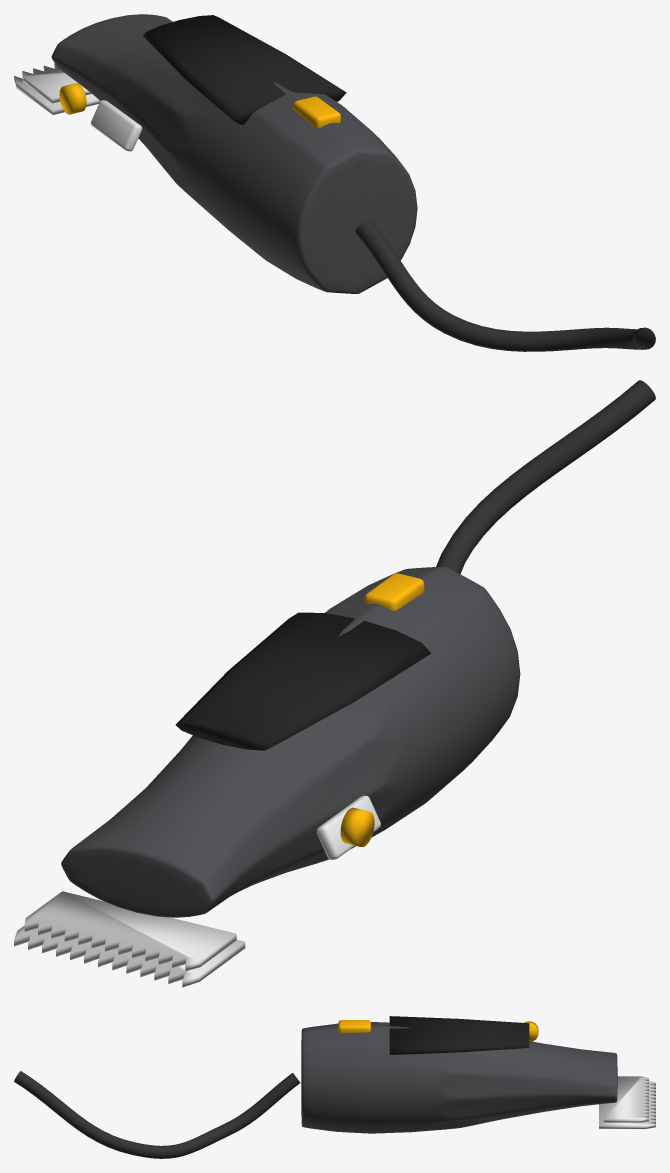
Rendered from clipper.glb.
The picture shows the model from 3 angles, top to bottom: view 1: azimuth 30°, elevation 25°; view 2: azimuth 150°, elevation 25°; view 3: azimuth 270°, elevation 25°; orthographic projection. The views are drawn at different scales.
Parts seen in each view (by area): view 1: Body, Grip, Cord, Cube, Cutter, Cube.001, Blade, Cylinder; view 2: Body, Grip, Cutter, Cord, Blade, Cube.001, Cube, Cylinder; view 3: Body, Grip, Cord, Cutter, Blade, Cube.001.
Part boxes in pixels (bbox=[...]): Body: bbox=[51, 14, 417, 293]; Grip: bbox=[142, 15, 346, 124]; Cord: bbox=[355, 219, 655, 351]; Cube: bbox=[91, 100, 142, 151]; Cutter: bbox=[22, 63, 91, 103]; Cube.001: bbox=[293, 96, 340, 128]; Blade: bbox=[14, 76, 100, 114]; Cylinder: bbox=[59, 83, 86, 114]; Body: bbox=[61, 566, 520, 917]; Grip: bbox=[175, 612, 431, 750]; Cutter: bbox=[24, 891, 236, 971]; Cord: bbox=[436, 380, 655, 574]; Blade: bbox=[14, 925, 245, 987]; Cube.001: bbox=[364, 573, 424, 610]; Cube: bbox=[316, 795, 380, 859]; Cylinder: bbox=[340, 807, 374, 846]; Body: bbox=[301, 1022, 617, 1133]; Grip: bbox=[389, 1016, 529, 1054]; Cord: bbox=[14, 1071, 300, 1158]; Cutter: bbox=[603, 1076, 648, 1122]; Blade: bbox=[599, 1081, 655, 1128]; Cube.001: bbox=[338, 1020, 370, 1033].
Bounding box in the file's own units: 0.0793 × 0.0508 × 0.276.
